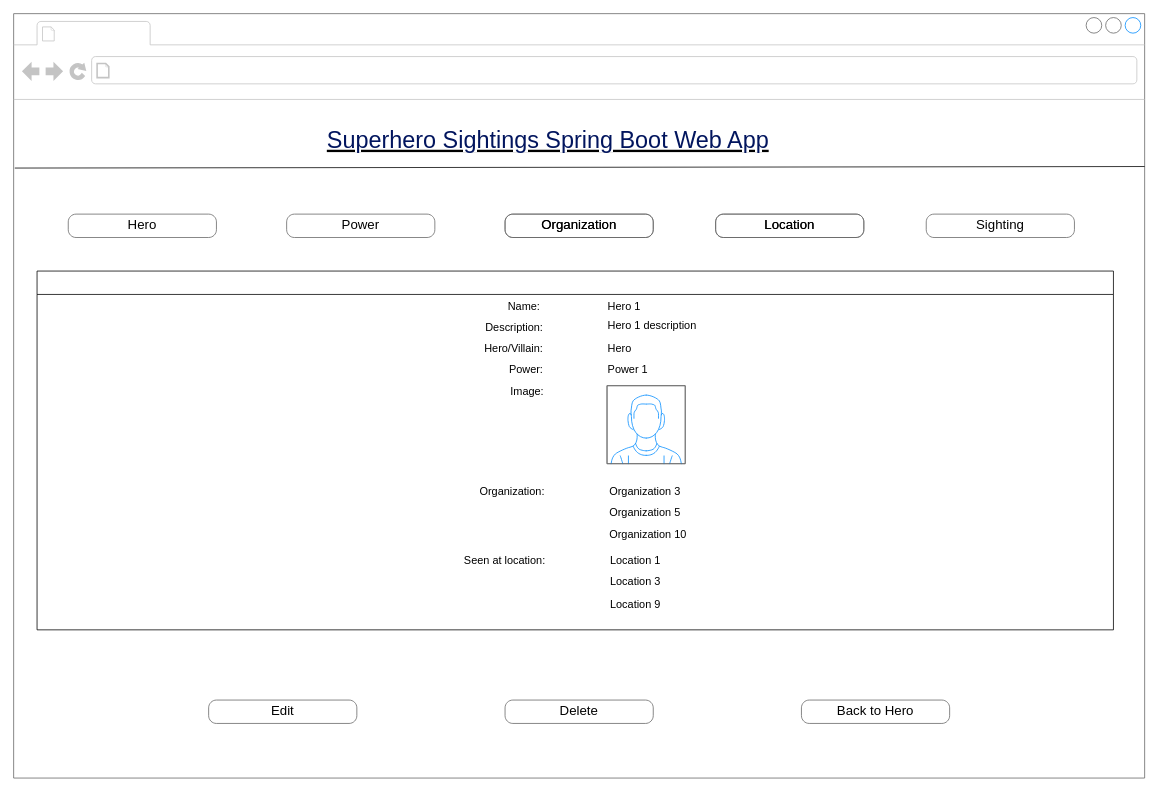
Image size: 1159x792. Some labels were removed from this diagram. The shapes that lost their labels are listed below. From the top down, each one's box as (x1, y1, x2, y2) in pixels, then its label:
(60, 22, 177, 43): Hero Details
(114, 60, 310, 81): https://www.default.com
(36, 270, 1113, 630): Hero 1 Details
